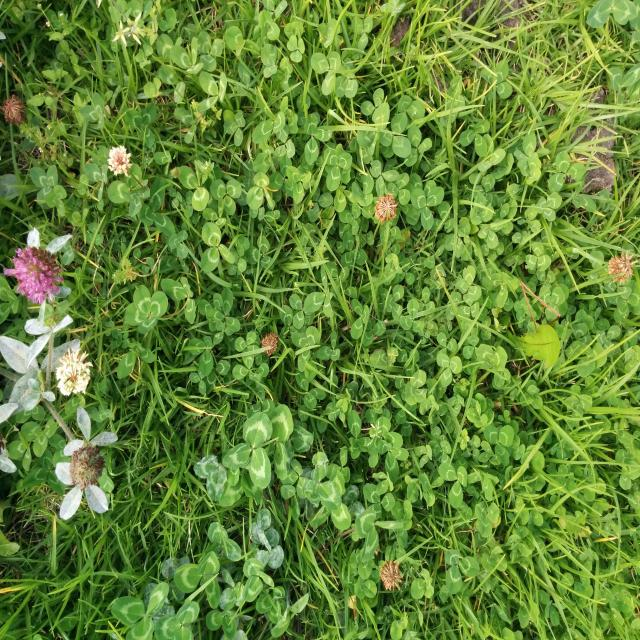Four Leaf Clover: (124, 287, 168, 334)
